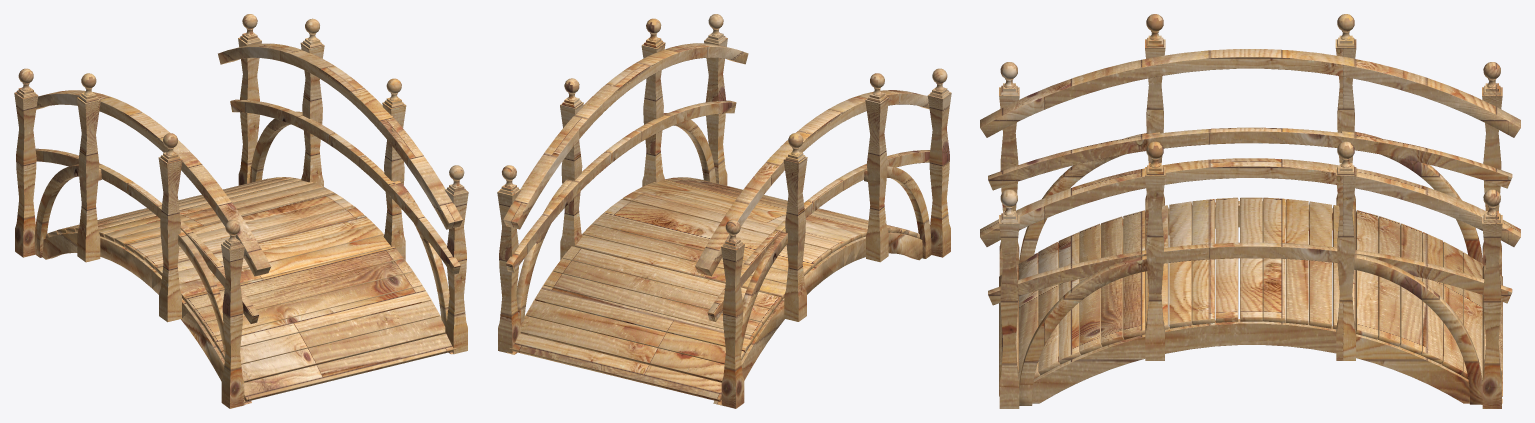
File: bridge.fbx
3 renders of one model, left to right at view 1: azimuth 30°, elevation 25°; view 2: azimuth 150°, elevation 25°; view 3: azimuth 270°, elevation 25°, orthographic. The views are drawn at different scales.
Parts seen in each view (by area): view 1: Bridge; view 2: Bridge; view 3: Bridge.
Part boxes in pixels (left/top/right/bottom): Bridge: left=14, top=14, right=468, bottom=408; Bridge: left=497, top=14, right=951, bottom=408; Bridge: left=980, top=14, right=1520, bottom=408.
Size of the model in its own units: 275 by 247 by 461.
Materials: 1 (1 with a texture image).
